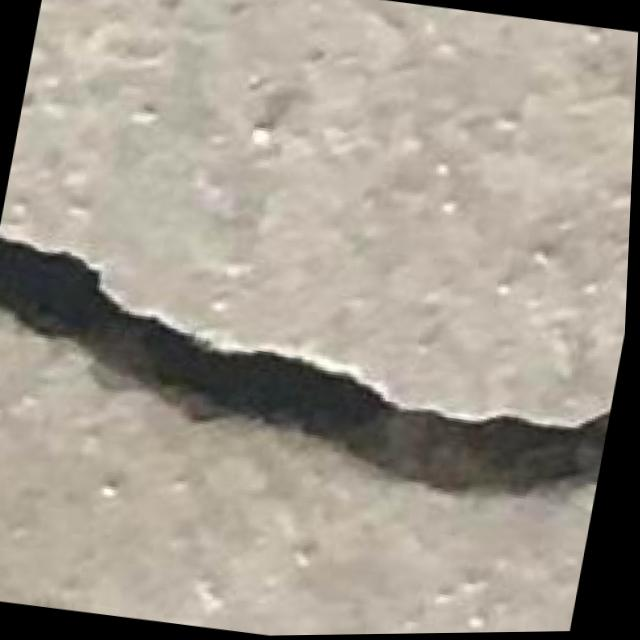Crack: (0, 225, 604, 554)
